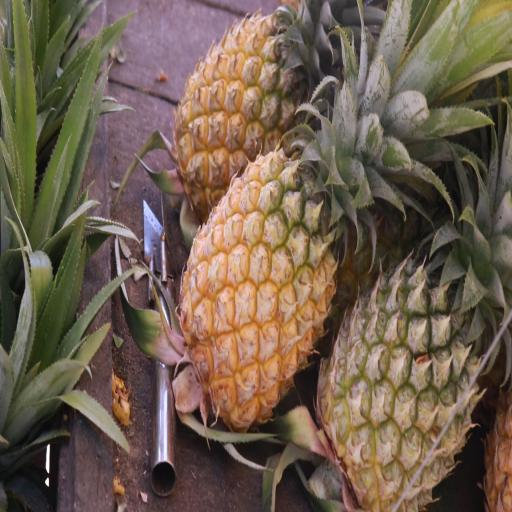Pineapple - v8 v1: (172, 120, 343, 434), (169, 0, 324, 223)
